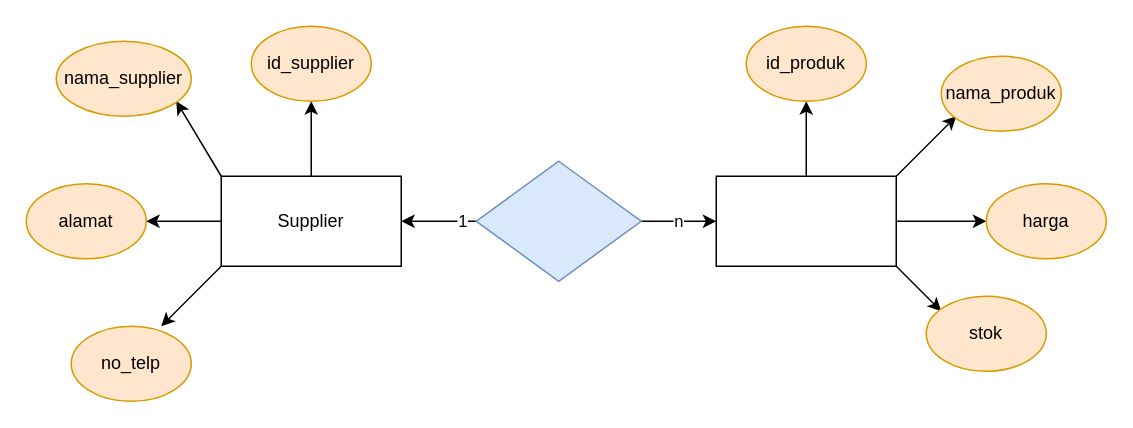
Some shapes in this 1133 by 428 pixel diagram are drawn without their labels. The shapes that lost their labels are listed below. From the top down, each one's box as (x1, y1, x2, y2) in pixels, then its label:
(475, 160, 641, 281): Menyuplai
(715, 175, 896, 266): produk
